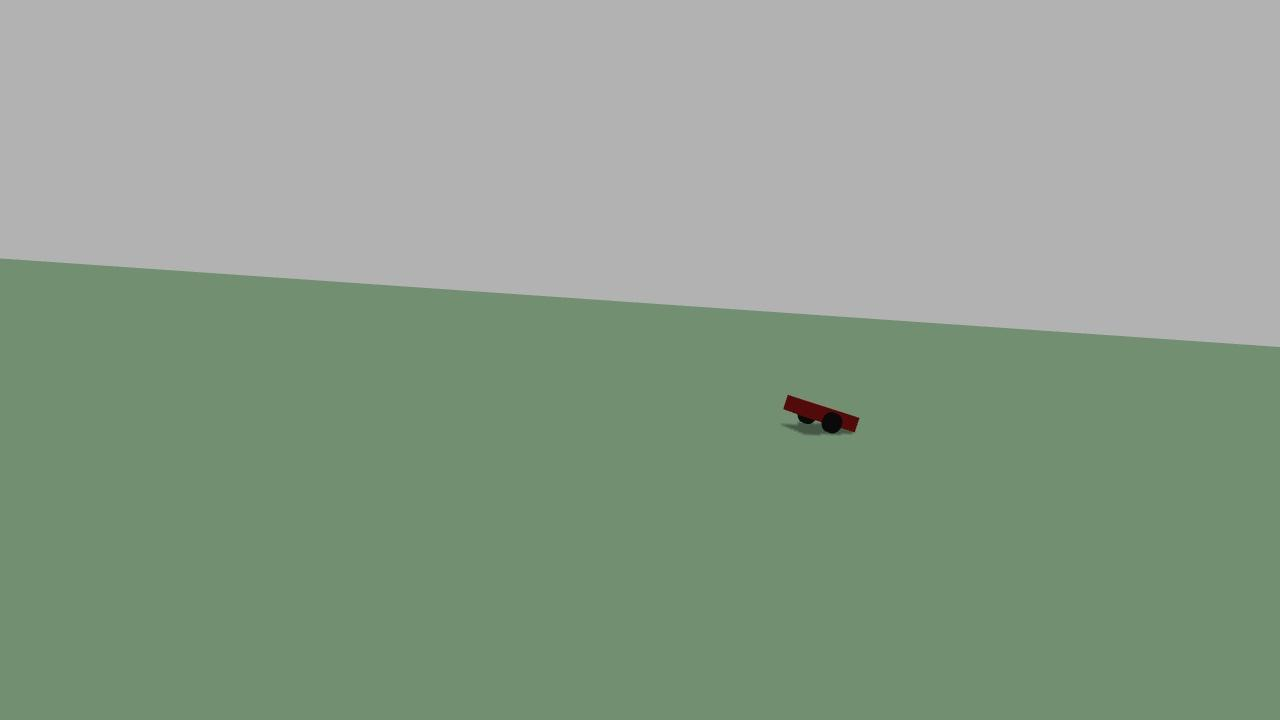ground_vehicle: (779, 385, 871, 448)
